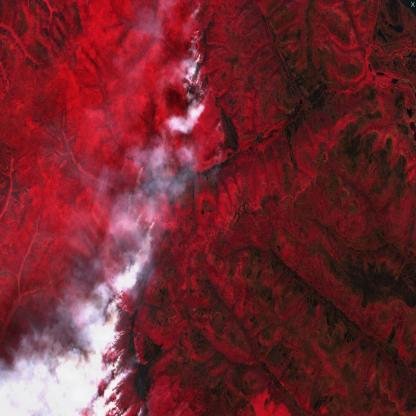fire: (91, 156, 196, 416), (182, 20, 218, 112)
